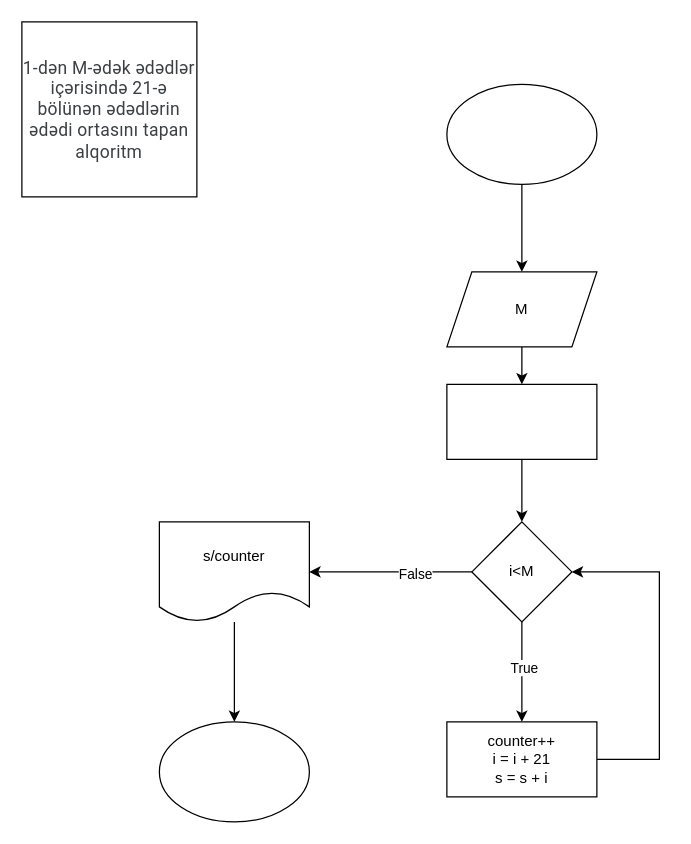
Image size: 691x844. Some labels were removed from this diagram. Here are the shapes that lost their labels. From the top down, the centre of each, then its label:
At pixel 521 133: "Start".
At pixel 521 421: "counter=0 i = 21 s = 0".
At pixel 233 771: "End".
